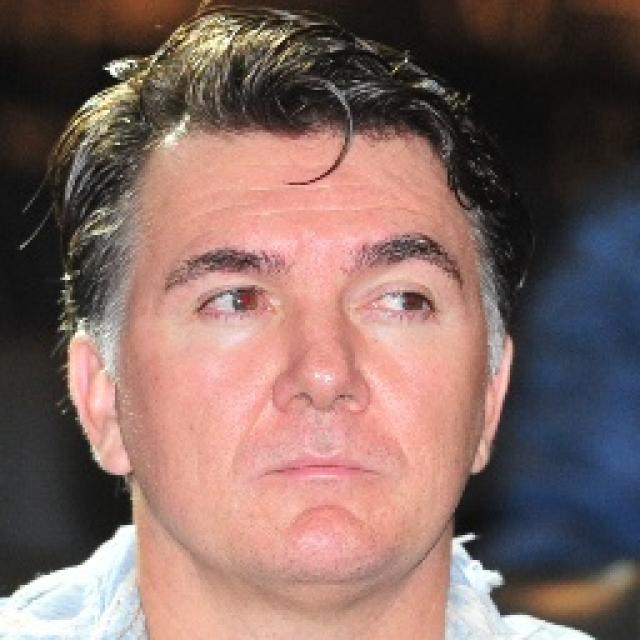earlobe: (94, 429, 132, 477), (468, 429, 493, 476)
eye: (355, 286, 441, 323), (187, 288, 272, 319)
nose: (276, 394, 368, 442)
wholeear: (68, 332, 131, 477), (467, 336, 516, 476)
